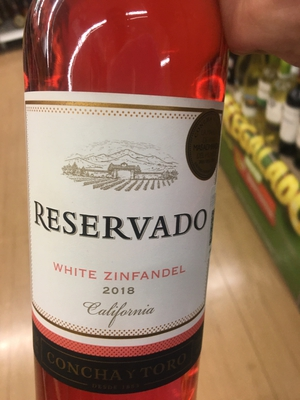reservado white zinfandel: (22, 16, 231, 400)
